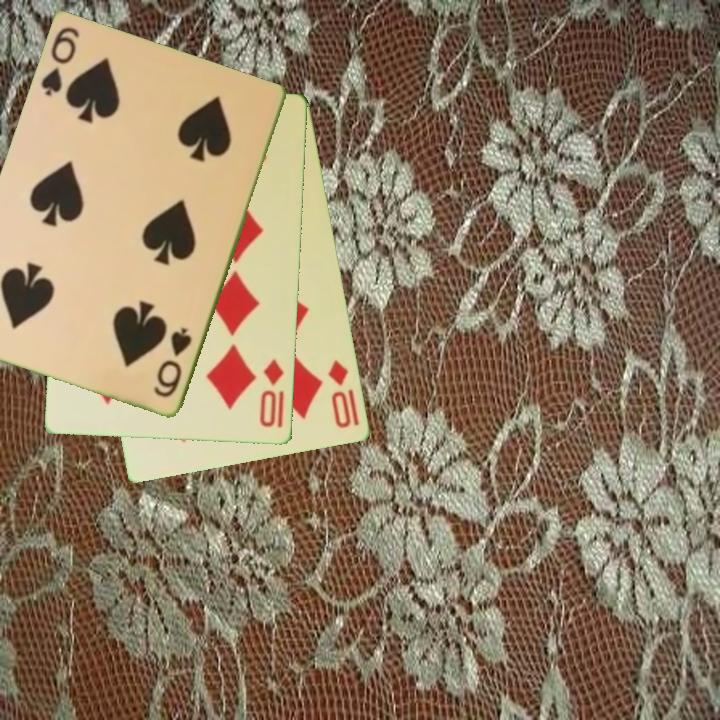10d: (256, 355, 288, 431), (325, 357, 354, 432)
6s: (150, 324, 196, 401), (37, 24, 83, 100)
